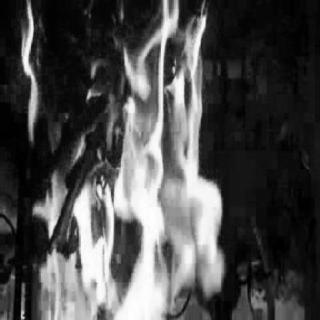Fire: (18, 7, 214, 320)
